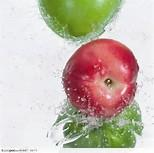apple: (62, 42, 139, 113)
